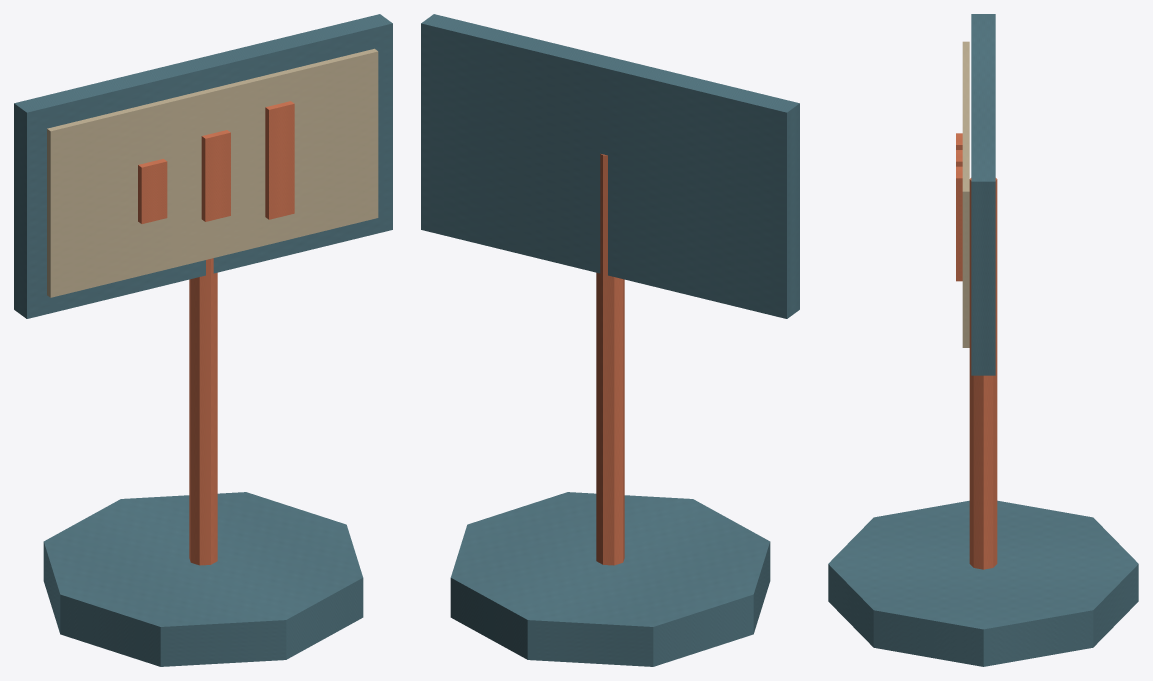
File: atlas100-s042-a11.glb
3 renders of one model, left to right at view 1: azimuth 30°, elevation 25°; view 2: azimuth 150°, elevation 25°; view 3: azimuth 270°, elevation 25°, orthographic. The views are drawn at different scales.
Parts seen in each view (by area): view 1: atlas100-s042-a11:part-003, atlas100-s042-a11:part-000, atlas100-s042-a11:part-002, atlas100-s042-a11:part-001, atlas100-s042-a11:part-006, atlas100-s042-a11:part-005, atlas100-s042-a11:part-004; view 2: atlas100-s042-a11:part-002, atlas100-s042-a11:part-000, atlas100-s042-a11:part-001; view 3: atlas100-s042-a11:part-000, atlas100-s042-a11:part-002, atlas100-s042-a11:part-001, atlas100-s042-a11:part-003, atlas100-s042-a11:part-006.
Part boxes in pixels (x1,y1,x2,y2): atlas100-s042-a11:part-003: (47, 48, 378, 297); atlas100-s042-a11:part-000: (43, 492, 363, 666); atlas100-s042-a11:part-002: (14, 14, 392, 318); atlas100-s042-a11:part-001: (189, 258, 217, 565); atlas100-s042-a11:part-006: (265, 101, 294, 219); atlas100-s042-a11:part-005: (201, 130, 230, 221); atlas100-s042-a11:part-004: (138, 159, 167, 223); atlas100-s042-a11:part-002: (421, 14, 799, 318); atlas100-s042-a11:part-000: (450, 492, 770, 666); atlas100-s042-a11:part-001: (596, 154, 624, 565); atlas100-s042-a11:part-000: (828, 500, 1138, 666); atlas100-s042-a11:part-002: (971, 14, 995, 375); atlas100-s042-a11:part-001: (969, 178, 997, 569); atlas100-s042-a11:part-003: (962, 41, 969, 347); atlas100-s042-a11:part-006: (956, 166, 962, 281).
Size of the model in its own units: 1.15 by 1.61 by 0.9.
3 materials, 3 textured.
